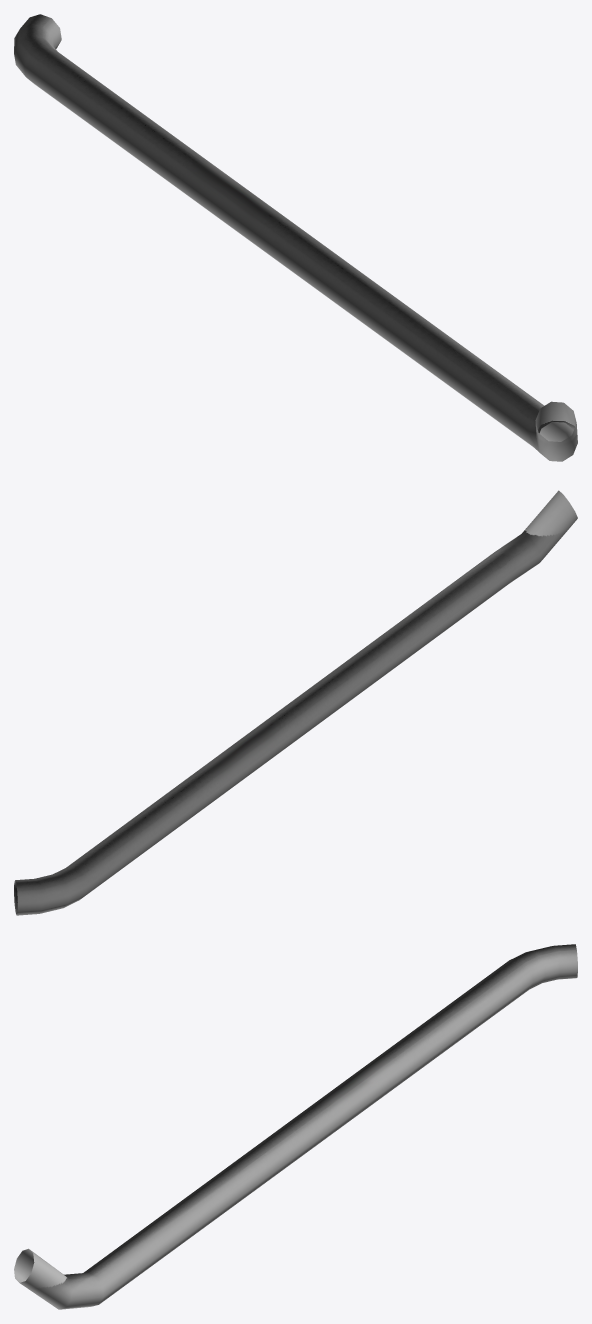
The model's file is Olschool_1_Sidepanel_1_L.fbx.
3 views of the same model, one above another, from view 1: azimuth 30°, elevation 25°; view 2: azimuth 150°, elevation 25°; view 3: azimuth 330°, elevation 25° (orthographic). The views are drawn at different scales.
Parts seen in each view (by area): view 1: Olschool_1_Sidepanel_1_L; view 2: Olschool_1_Sidepanel_1_L; view 3: Olschool_1_Sidepanel_1_L.
Boxes of the visible parts, box(x1,y1,x2,y2) form: Olschool_1_Sidepanel_1_L: box(14, 14, 577, 461); Olschool_1_Sidepanel_1_L: box(14, 490, 577, 915); Olschool_1_Sidepanel_1_L: box(14, 944, 577, 1309).
Bounding box in the file's own units: 137 × 124 × 1545.
